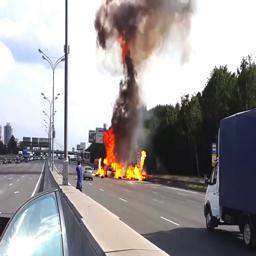fire: (94, 127, 148, 180)
